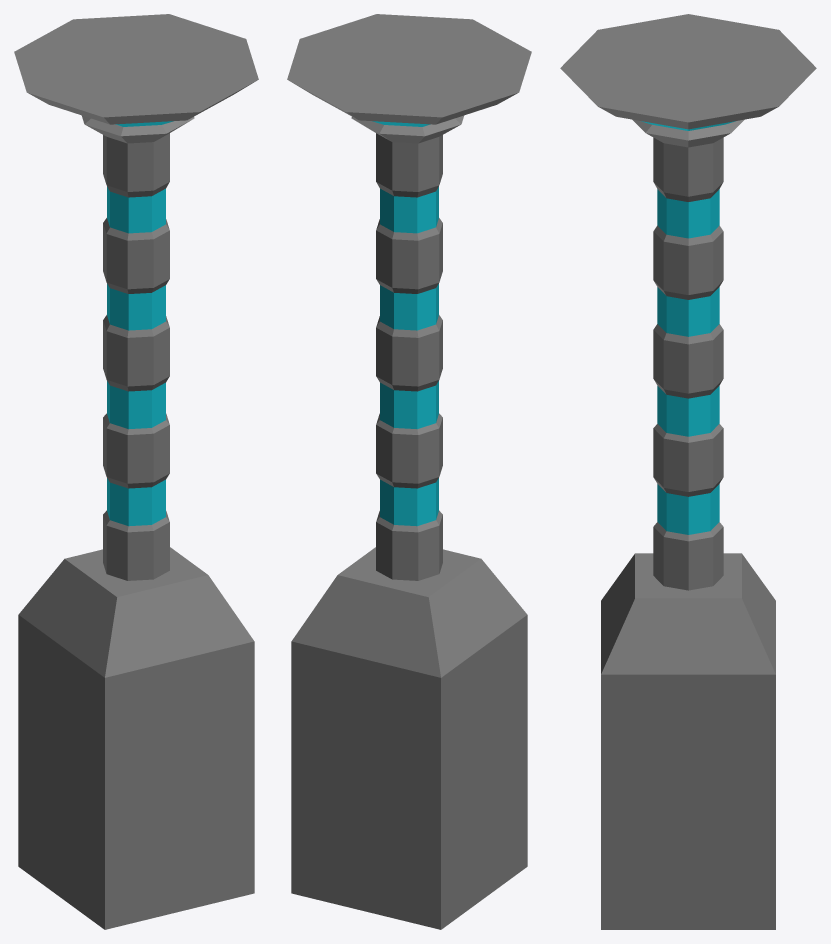
The model's file is Post.fbx.
The picture shows the model from 3 angles, left to right: view 1: azimuth 30°, elevation 25°; view 2: azimuth 150°, elevation 25°; view 3: azimuth 270°, elevation 25°; orthographic projection.
Visible parts, largest first — view 1: Cube; view 2: Cube; view 3: Cube.
Part boxes in pixels (left/top/right/bottom): Cube: left=14, top=14, right=258, bottom=929; Cube: left=287, top=14, right=531, bottom=929; Cube: left=560, top=14, right=816, bottom=929.
Size of the model in its own units: 0.7334 by 0.7334 by 2.6.
